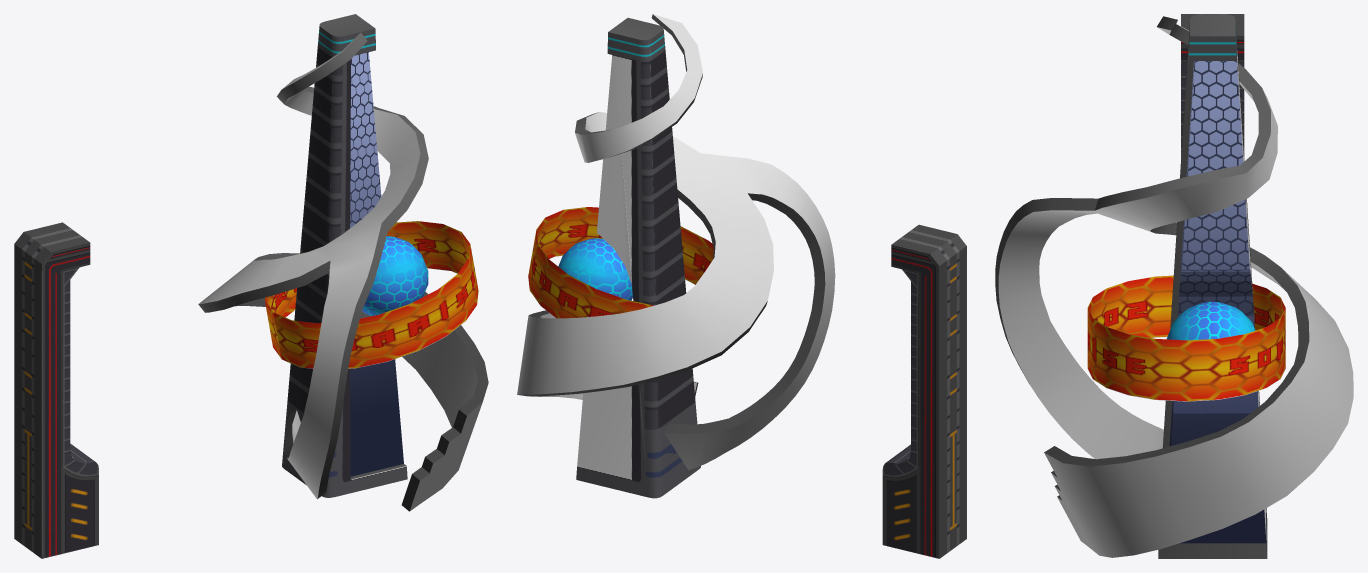
File: 超高樓2020fn.fbx
The picture shows the model from 3 angles, left to right: view 1: azimuth 30°, elevation 25°; view 2: azimuth 150°, elevation 25°; view 3: azimuth 270°, elevation 25°; orthographic projection. The views are drawn at different scales.
Visible parts, largest first — view 1: sp-high-rise1, sp-high-rise2, rign, ball; view 2: sp-high-rise1, sp-high-rise2, rign, ball; view 3: sp-high-rise1, rign, ball, sp-high-rise2.
Part boxes in pixels (x1,y1,x2,y2): sp-high-rise1: [198, 14, 488, 511]; sp-high-rise2: [14, 222, 98, 558]; rign: [265, 221, 478, 368]; ball: [362, 236, 428, 315]; sp-high-rise1: [517, 14, 835, 498]; sp-high-rise2: [882, 224, 966, 558]; rign: [528, 207, 713, 318]; ball: [558, 238, 632, 300]; sp-high-rise1: [995, 14, 1353, 558]; rign: [1087, 275, 1285, 401]; ball: [1166, 301, 1255, 340]; sp-high-rise2: [1181, 14, 1244, 158].
Bounding box in the file's own units: 451 × 451 × 283.
3 materials, 3 textured.
